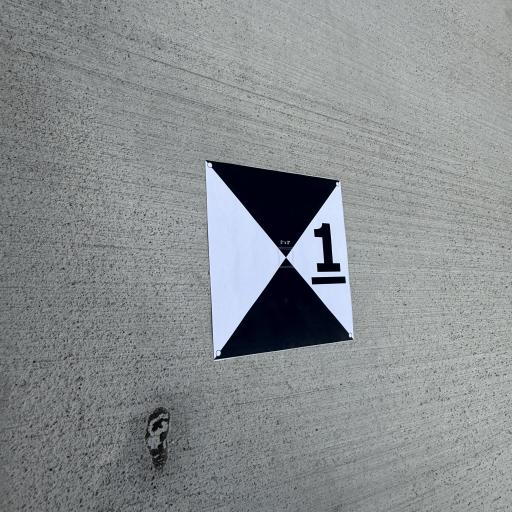target1: (197, 150, 360, 364)
